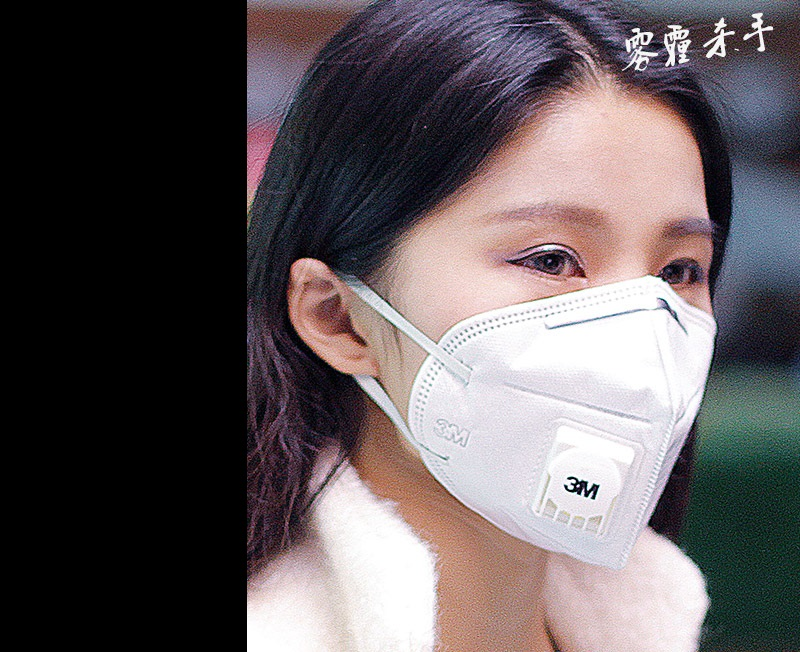face_mask: (413, 105, 728, 511)
